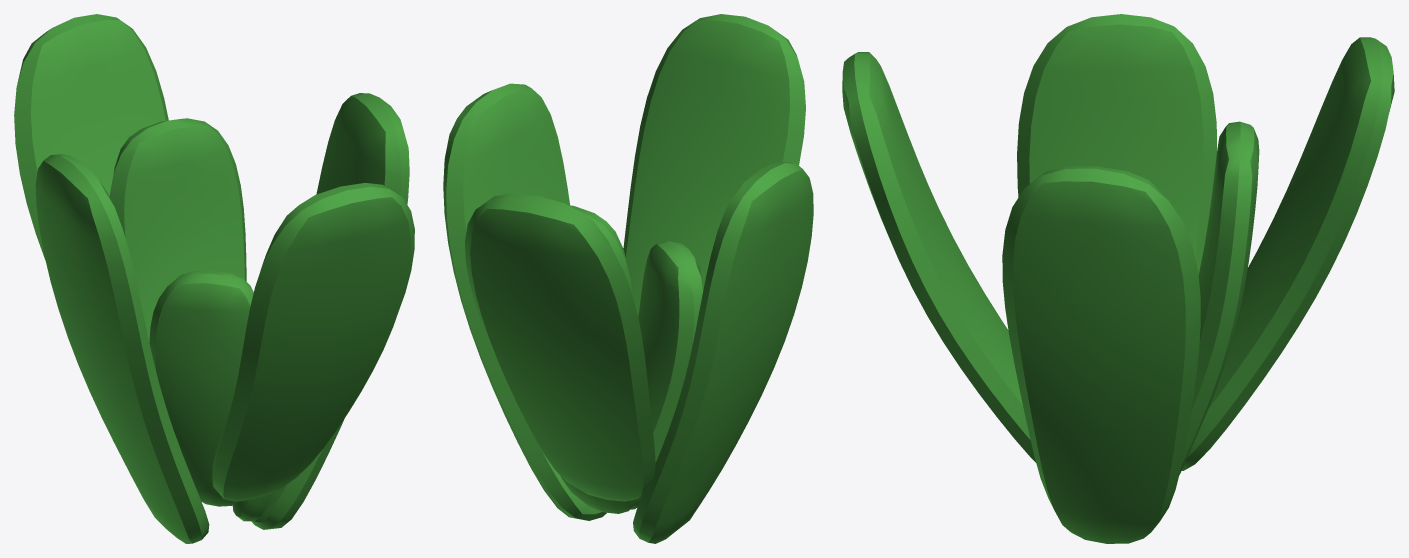
The model's file is carreot_middle.glb.
The picture shows the model from 3 angles, left to right: view 1: azimuth 30°, elevation 25°; view 2: azimuth 150°, elevation 25°; view 3: azimuth 270°, elevation 25°; orthographic projection. The views are drawn at different scales.
Parts seen in each view (by area): view 1: Plane.002; view 2: Plane.002; view 3: Plane.002.
Part boxes in pixels (box(x1,y1,x2,y2)): Plane.002: box(14, 14, 414, 543); Plane.002: box(443, 14, 813, 543); Plane.002: box(842, 14, 1394, 543).
Size of the model in its own units: 0.9006 by 1.13 by 1.23.
